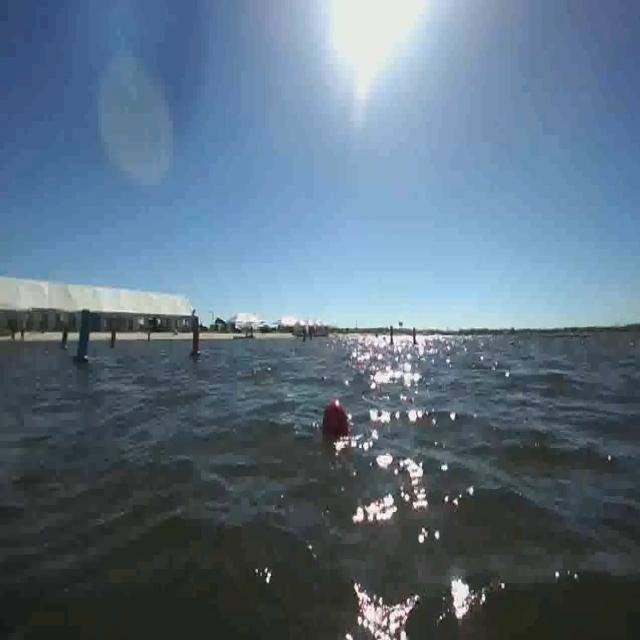green-column-buoy: (72, 311, 92, 366), (60, 325, 72, 351)
red-buoy: (319, 395, 350, 440)
red-column-buoy: (190, 318, 204, 360), (109, 328, 118, 351)
